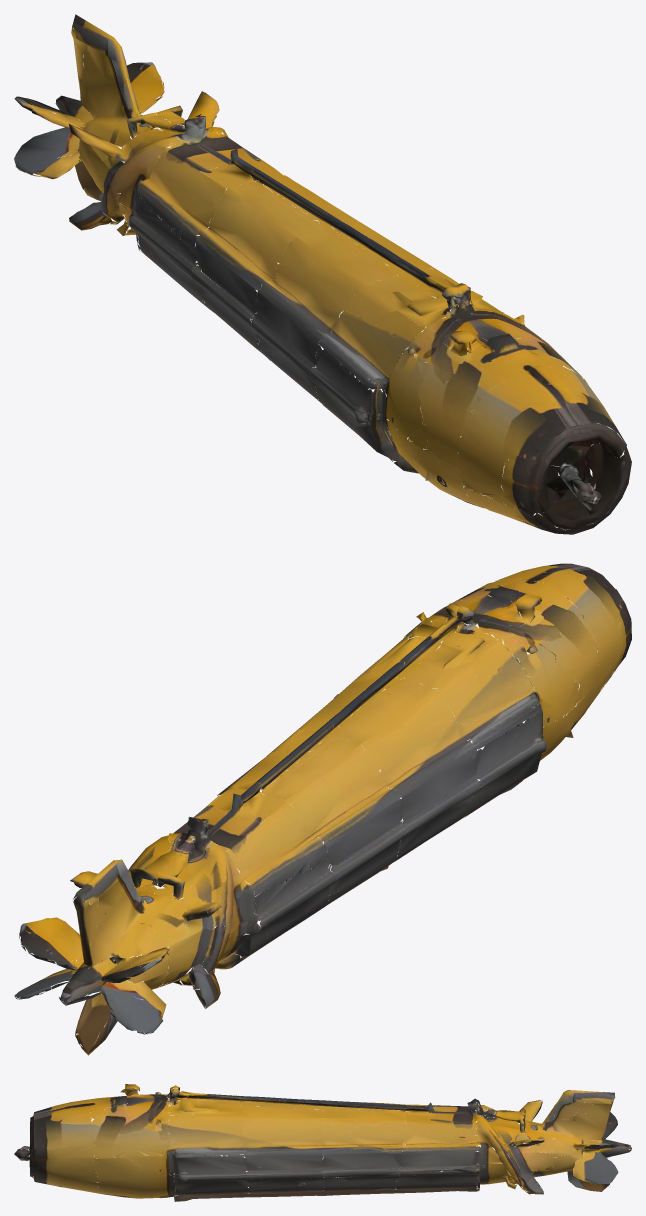
File: towfish.glb
3 renders of one model, top to bottom at view 1: azimuth 30°, elevation 25°; view 2: azimuth 150°, elevation 25°; view 3: azimuth 270°, elevation 25°, orthographic. The views are drawn at different scales.
Parts seen in each view (by area): view 1: tripo_node_20e8324c-dc51-49b1-a0df-4531738f9b01; view 2: tripo_node_20e8324c-dc51-49b1-a0df-4531738f9b01; view 3: tripo_node_20e8324c-dc51-49b1-a0df-4531738f9b01.
Part boxes in pixels (x1,y1,x2,y2): tripo_node_20e8324c-dc51-49b1-a0df-4531738f9b01: [14, 14, 631, 534]; tripo_node_20e8324c-dc51-49b1-a0df-4531738f9b01: [14, 563, 631, 1055]; tripo_node_20e8324c-dc51-49b1-a0df-4531738f9b01: [14, 1084, 631, 1201].
Bounding box in the file's own units: 0.2622 × 0.2522 × 1.3.
Materials: 1 (1 with a texture image).
